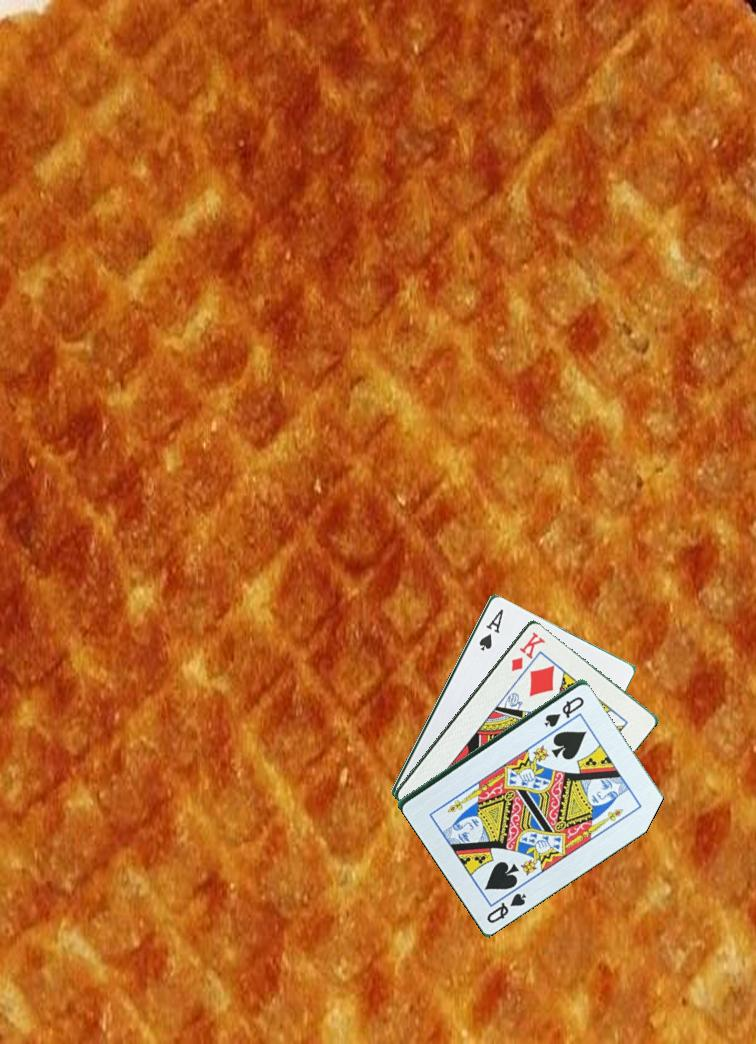as: (475, 605, 507, 653)
kd: (507, 628, 546, 674)
qs: (541, 692, 587, 729), (483, 889, 529, 926)
